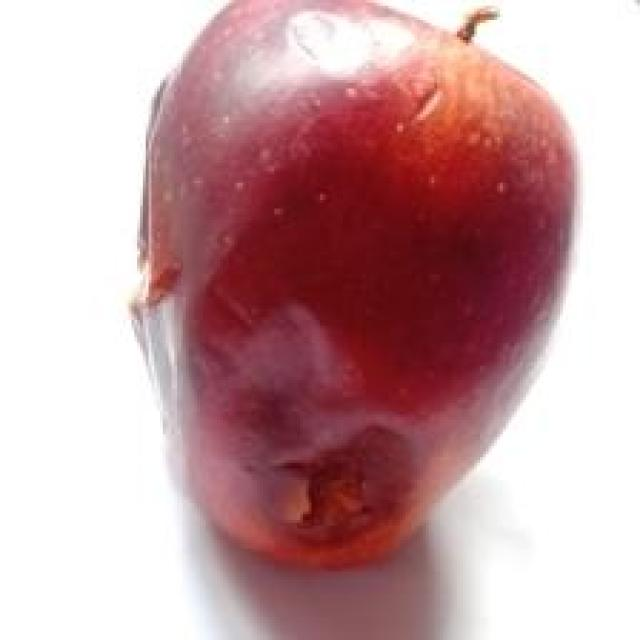rotten apple: (66, 0, 608, 640)
